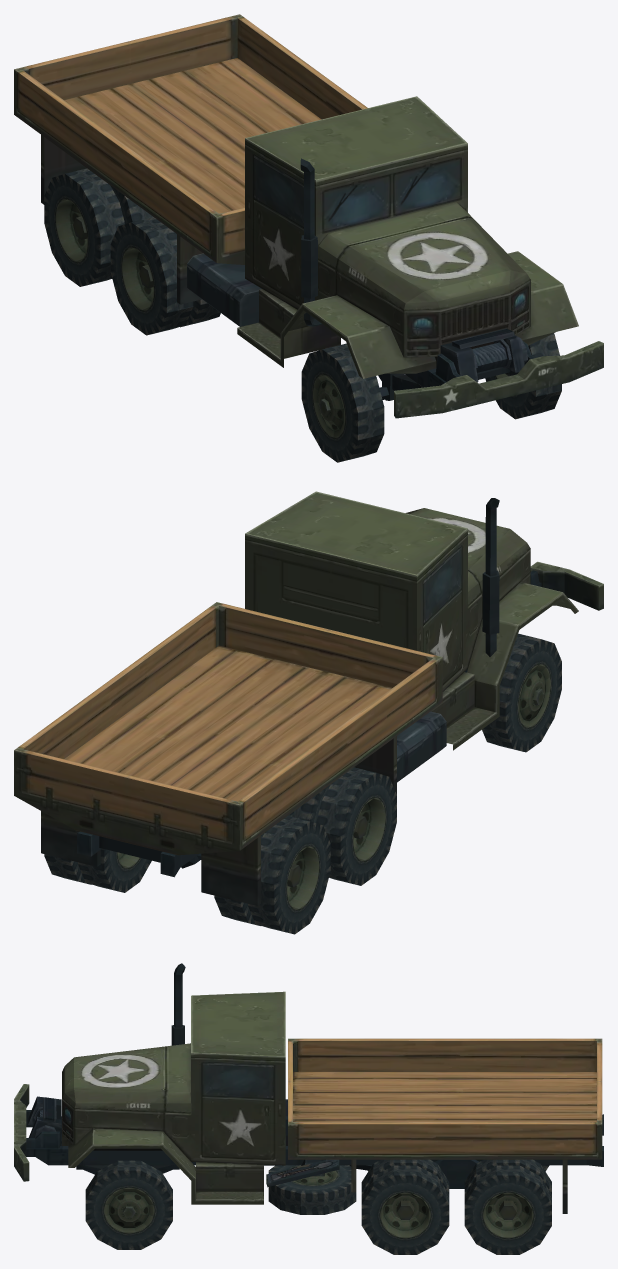
3 renders of one model, top to bottom at view 1: azimuth 30°, elevation 25°; view 2: azimuth 150°, elevation 25°; view 3: azimuth 270°, elevation 25°, orthographic. The views are drawn at different scales.
Bounding box in the file's own units: 8.21 × 9.25 × 23.38.
3 materials, 3 textured.
